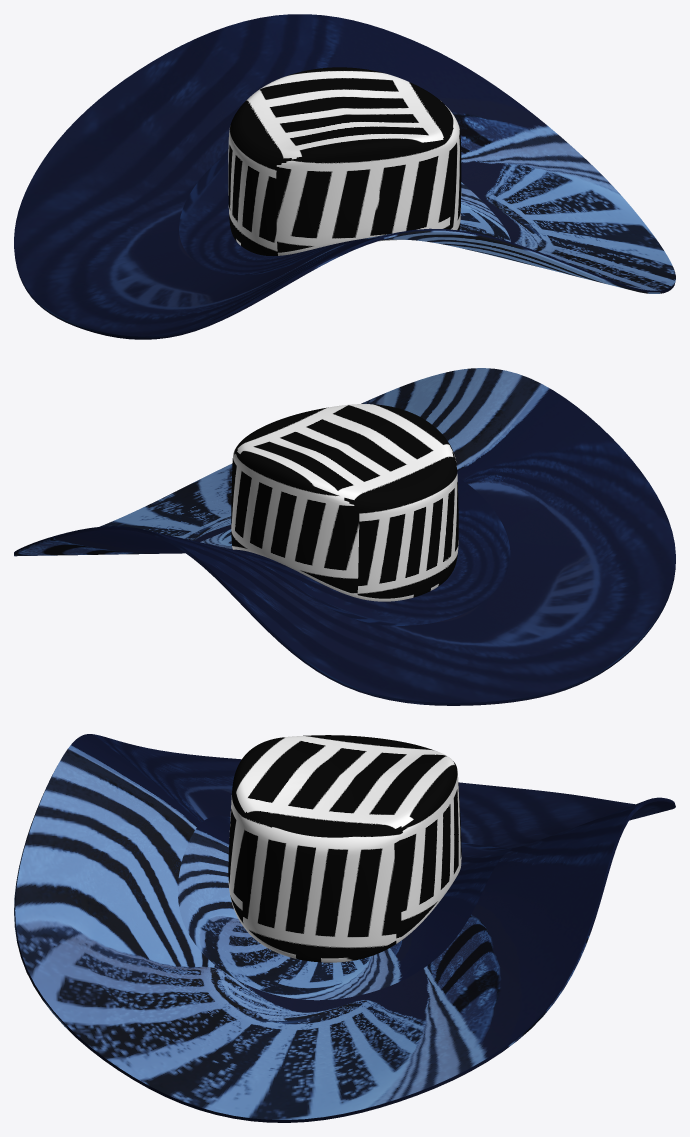
The model's file is Sombrero.fbx.
3 views of the same model, one above another, from view 1: azimuth 30°, elevation 25°; view 2: azimuth 150°, elevation 25°; view 3: azimuth 270°, elevation 25° (orthographic). The views are drawn at different scales.
Parts seen in each view (by area): view 1: Cylinder; view 2: Cylinder; view 3: Cylinder.
Boxes of the visible parts, x1=… form: Cylinder: x1=14, y1=14, x2=675, y2=339; Cylinder: x1=14, y1=368, x2=675, y2=705; Cylinder: x1=14, y1=734, x2=675, y2=1122.
Bounding box in the file's own units: 564 × 173 × 509.
Materials: 2 (2 with a texture image).
